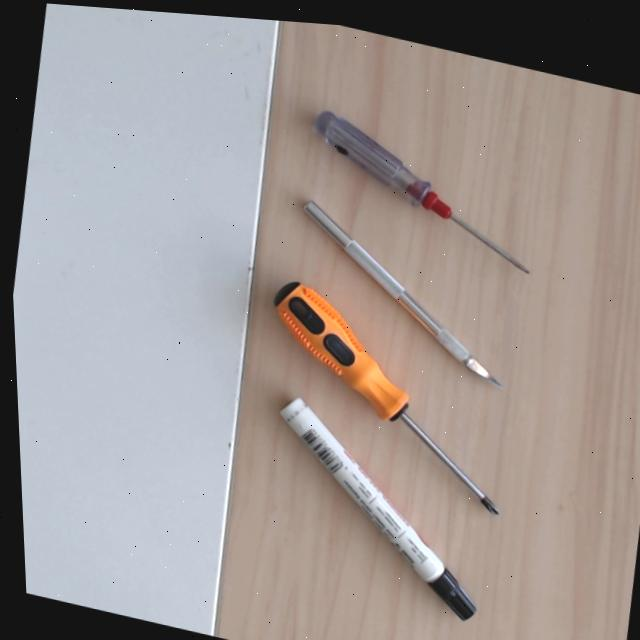Cutter-Kecil: (300, 196, 503, 395)
Marker-Pen: (279, 393, 485, 626)
Obeng-Besar: (265, 268, 506, 542)
Obeng-Kecil: (309, 102, 540, 285)
